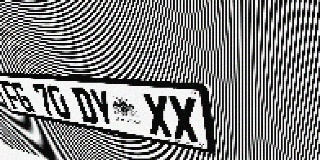0: (44, 85, 73, 120)
7: (31, 83, 58, 117)
D: (70, 87, 100, 125)
F: (0, 81, 24, 111)
G: (10, 82, 36, 113)
X: (167, 95, 200, 143), (141, 93, 174, 138)
Y: (88, 88, 118, 128)
